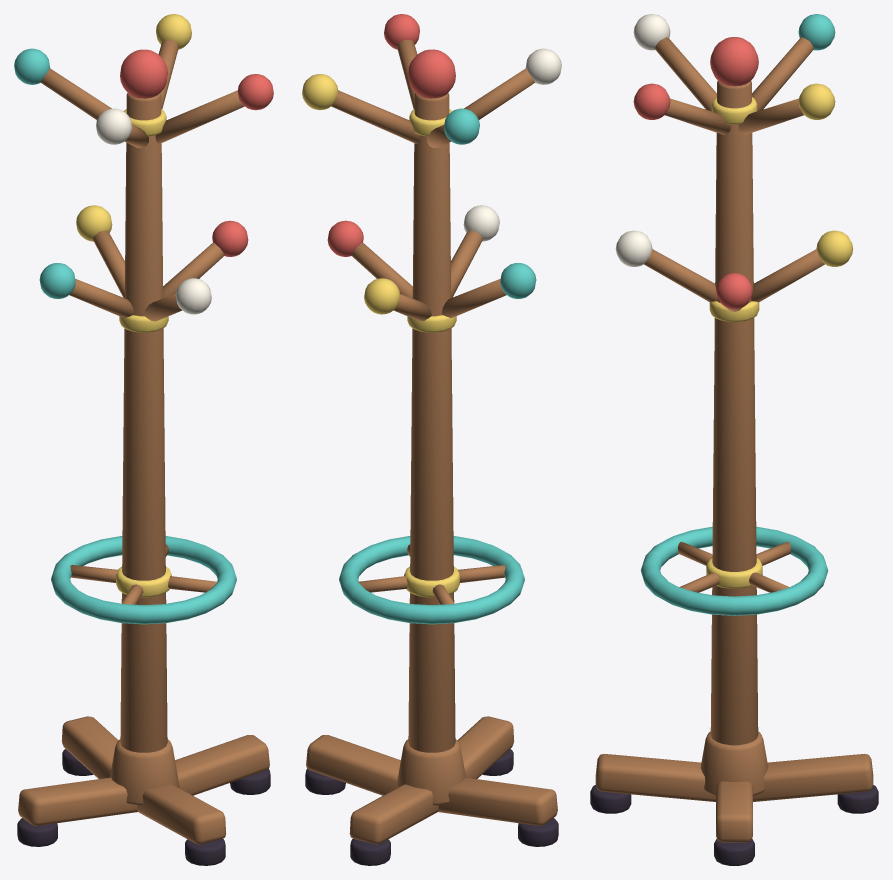
Rendered from coat-rack.glb.
The picture shows the model from 3 angles, left to right: view 1: azimuth 30°, elevation 25°; view 2: azimuth 150°, elevation 25°; view 3: azimuth 270°, elevation 25°; orthographic projection.
Visible parts, largest first — view 1: FurnCoatRack_PoleArms, FurnCoatRack_RingKnobs, FurnCoatRack_FinialKnobs, FurnCoatRack_Collars, FurnCoatRack_Glides, FurnCoatRack_CreamKnobs; view 2: FurnCoatRack_PoleArms, FurnCoatRack_RingKnobs, FurnCoatRack_Collars, FurnCoatRack_FinialKnobs, FurnCoatRack_Glides, FurnCoatRack_CreamKnobs; view 3: FurnCoatRack_PoleArms, FurnCoatRack_RingKnobs, FurnCoatRack_Collars, FurnCoatRack_FinialKnobs, FurnCoatRack_Glides, FurnCoatRack_CreamKnobs.
Part boxes in pixels (x1,y1,x2,y2): FurnCoatRack_PoleArms: [18, 40, 269, 844]; FurnCoatRack_RingKnobs: [14, 48, 236, 624]; FurnCoatRack_FinialKnobs: [120, 49, 273, 256]; FurnCoatRack_Collars: [76, 14, 191, 597]; FurnCoatRack_Glides: [17, 749, 270, 865]; FurnCoatRack_CreamKnobs: [96, 108, 211, 314]; FurnCoatRack_PoleArms: [306, 40, 557, 844]; FurnCoatRack_RingKnobs: [339, 108, 536, 624]; FurnCoatRack_Collars: [302, 74, 459, 597]; FurnCoatRack_FinialKnobs: [327, 14, 455, 256]; FurnCoatRack_Glides: [305, 749, 558, 865]; FurnCoatRack_CreamKnobs: [463, 48, 561, 241]; FurnCoatRack_PoleArms: [595, 37, 873, 842]; FurnCoatRack_RingKnobs: [640, 14, 835, 615]; FurnCoatRack_Collars: [706, 83, 852, 588]; FurnCoatRack_FinialKnobs: [633, 37, 758, 309]; FurnCoatRack_Glides: [590, 785, 878, 865]; FurnCoatRack_CreamKnobs: [615, 14, 670, 266].
Bounding box in the file's own units: 0.5301 × 1.56 × 0.532.
